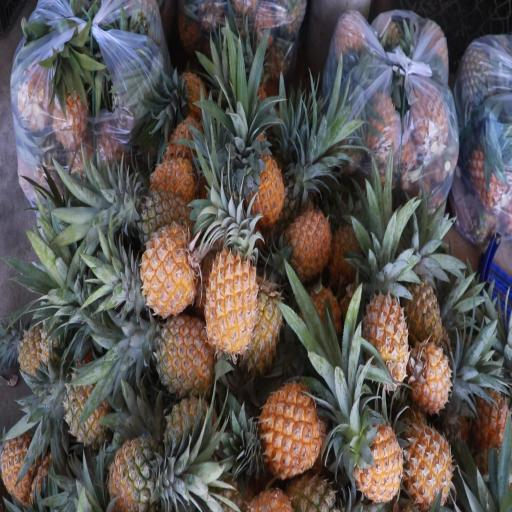------------------------------: (106, 428, 184, 512), (59, 360, 111, 446), (128, 190, 194, 255)
Pineapple - v8 v1: (260, 377, 326, 481), (145, 310, 216, 405), (204, 224, 257, 349), (137, 221, 200, 321), (360, 272, 409, 395), (398, 415, 455, 512), (240, 257, 286, 371), (350, 418, 406, 510), (464, 372, 512, 474), (236, 138, 286, 230), (283, 206, 338, 284), (400, 260, 446, 353), (405, 335, 455, 418), (0, 426, 44, 506), (147, 155, 200, 214), (171, 66, 214, 125), (12, 327, 54, 385)
